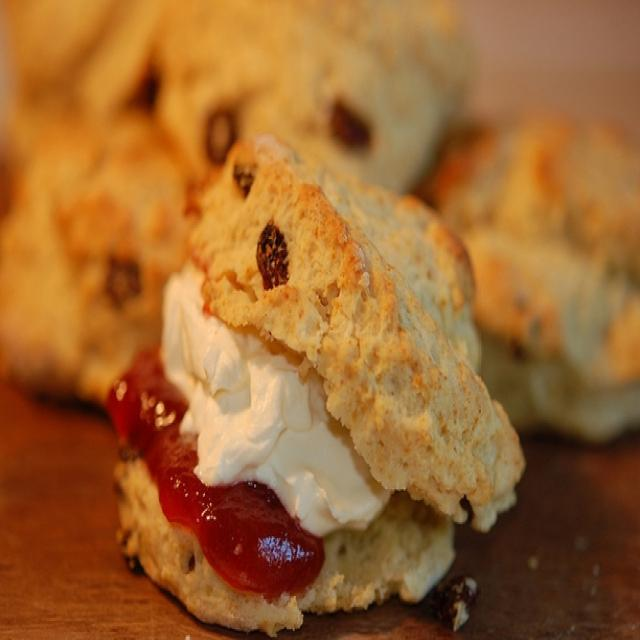面包点心: (7, 23, 619, 615)
